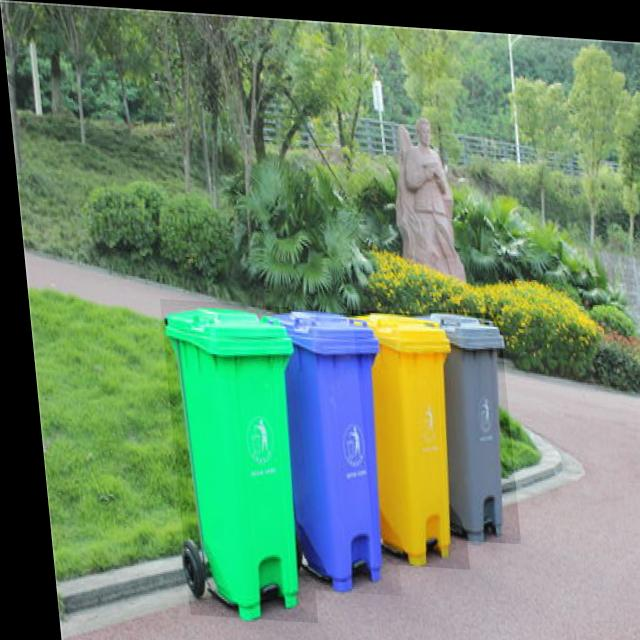garbage_bin: (154, 297, 306, 619), (268, 305, 390, 591), (346, 305, 459, 564), (423, 304, 511, 538)
